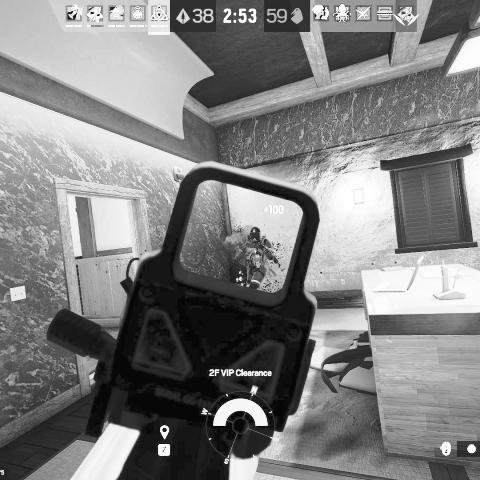Character: (239, 225, 288, 290)
Head: (249, 226, 262, 242)
